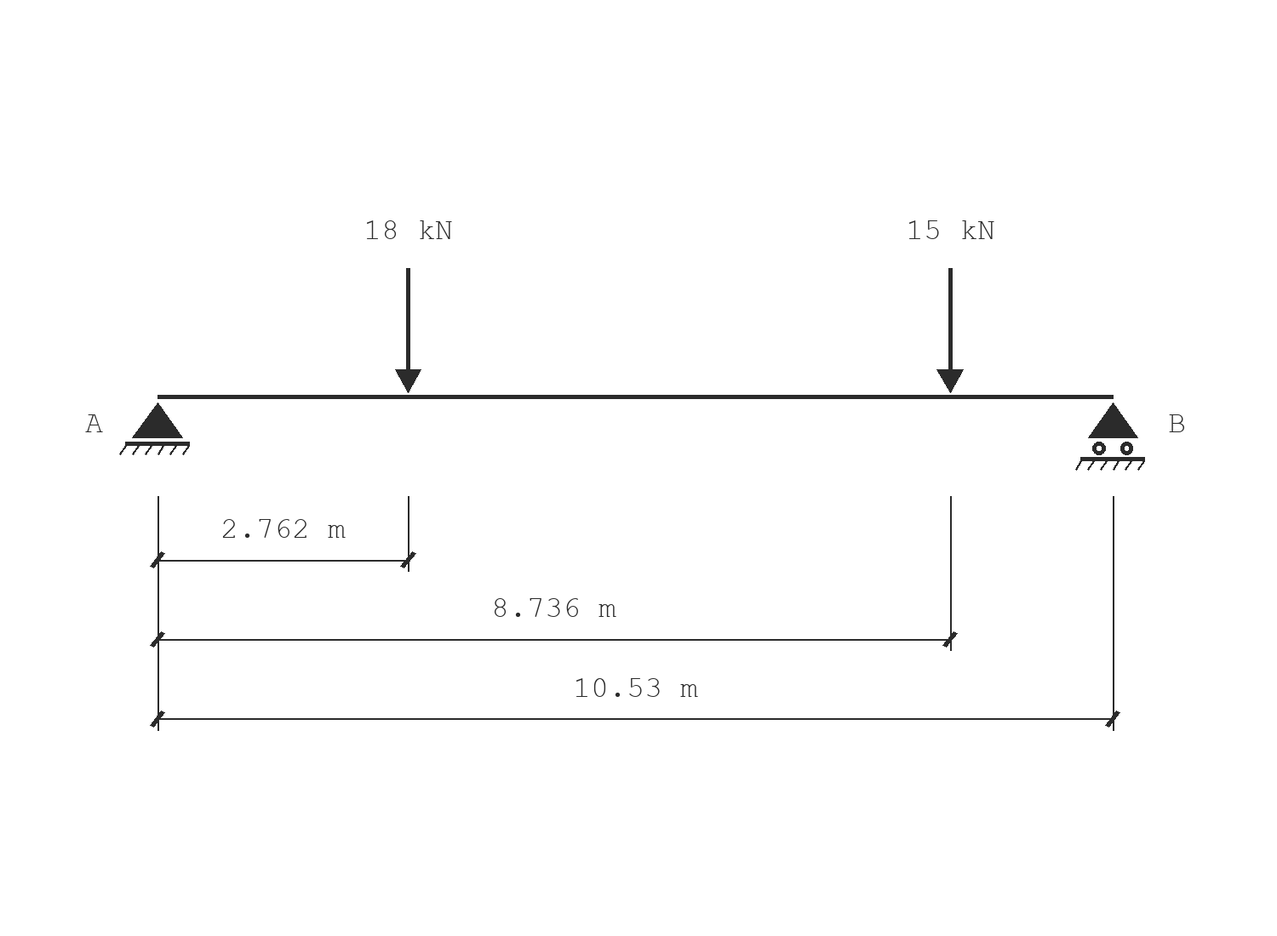pin_support: (119, 402, 190, 455)
point_load: (936, 268, 964, 393), (395, 268, 421, 393)
roller_support: (1075, 402, 1145, 471)
